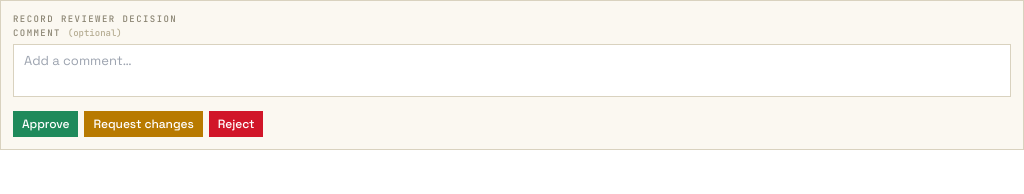
Scenario: SignoffPanel › shows success message after successful submission
Click the button with aria-label "Approve this card".
click(46, 124)  # box [13,111,78,137]
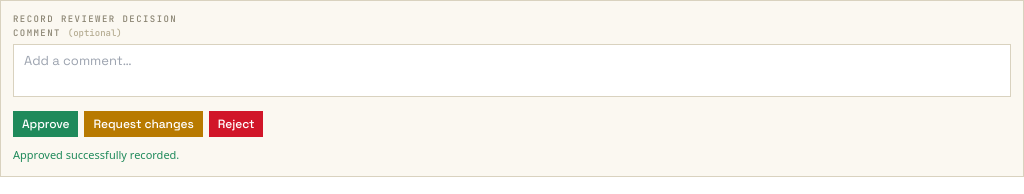
expect the message shows "Approved successfully recorded": met, box [13,147,179,162]
